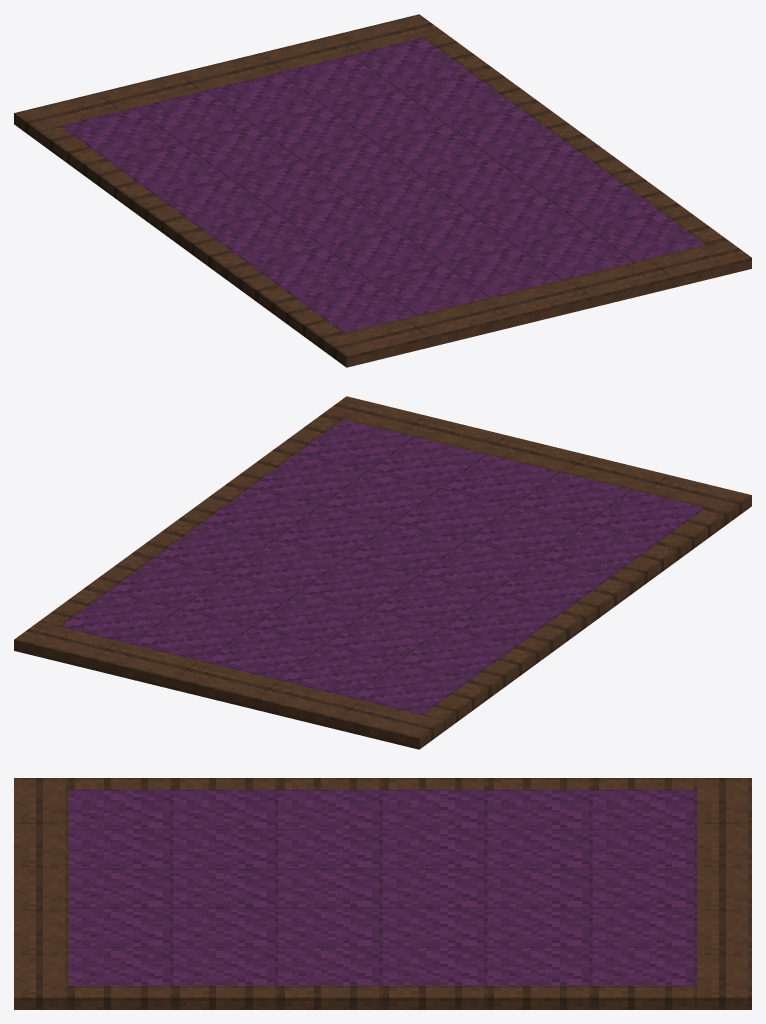
File: corridorCarpet_1.glb
The picture shows the model from 3 angles, top to bottom: view 1: azimuth 30°, elevation 25°; view 2: azimuth 150°, elevation 25°; view 3: azimuth 270°, elevation 25°; orthographic projection. The views are drawn at different scales.
Visible parts, largest first — view 1: corridorCarpet_1; view 2: corridorCarpet_1; view 3: corridorCarpet_1.
Part boxes in pixels (x1,y1,x2,y2): corridorCarpet_1: (14, 14, 751, 367); corridorCarpet_1: (14, 396, 751, 749); corridorCarpet_1: (14, 778, 751, 1009).
Bounding box in the file's own units: 2.38 × 0.0625 × 3.38.
Materials: 1 (1 with a texture image).
